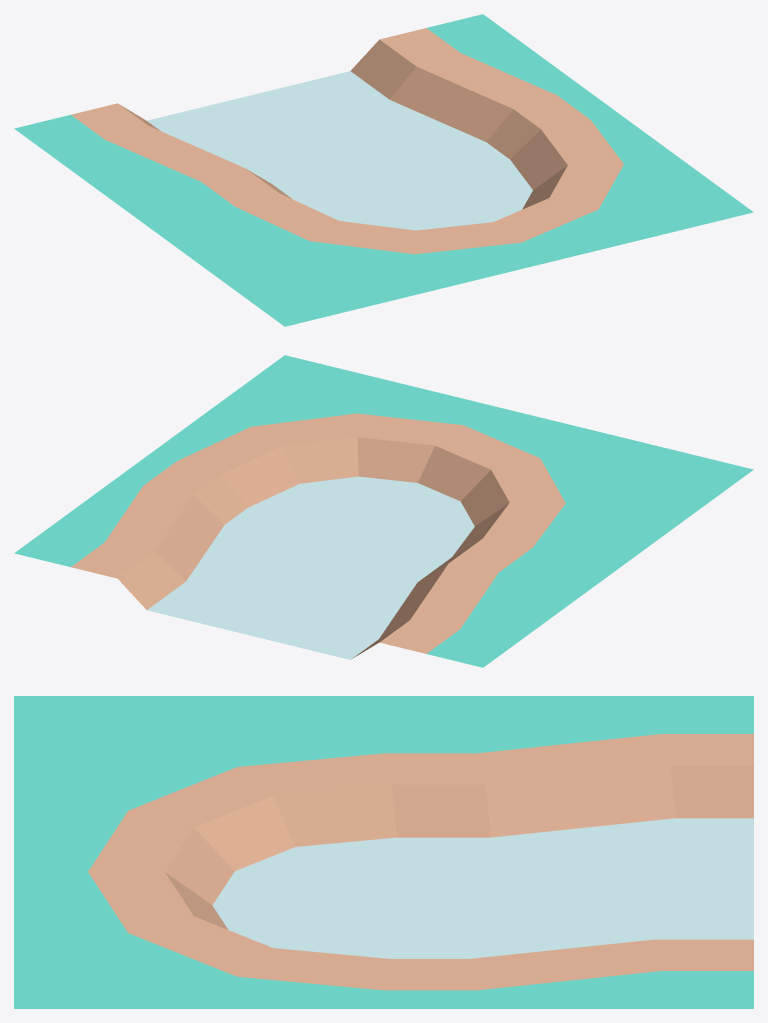
The picture shows the model from 3 angles, top to bottom: view 1: azimuth 30°, elevation 25°; view 2: azimuth 150°, elevation 25°; view 3: azimuth 270°, elevation 25°; orthographic projection. The views are drawn at different scales.
Parts seen in each view (by area): view 1: ground_riverEndClosed; view 2: ground_riverEndClosed; view 3: ground_riverEndClosed.
Part boxes in pixels (x1,y1,x2,y2): ground_riverEndClosed: (14, 14, 753, 326); ground_riverEndClosed: (14, 355, 753, 667); ground_riverEndClosed: (14, 696, 753, 1008).
Bounding box in the file's own units: 1 × 0.05 × 1.
